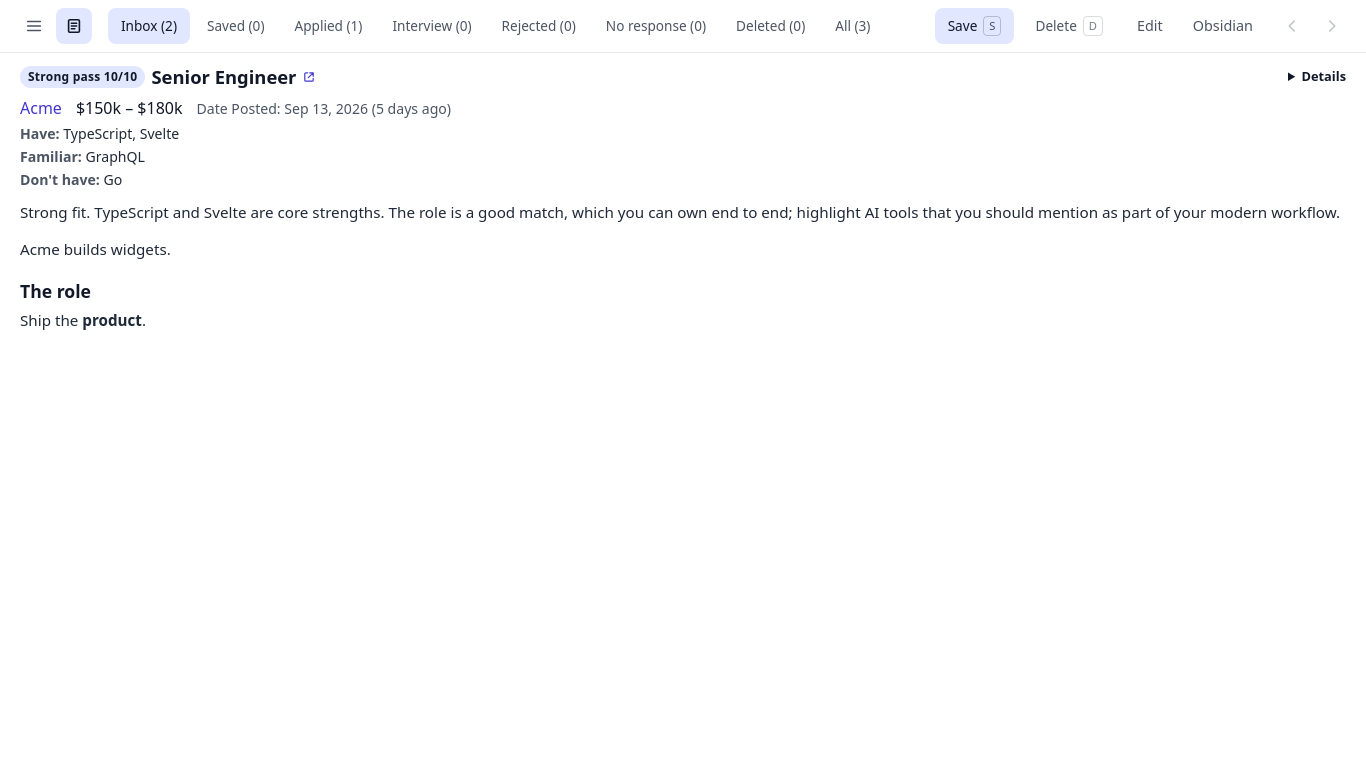
Test case: edits and saves job markdown
This screenshot has width=1366, height=768.
Expected: the heading "Senior Engineer" is shown, [152,65,296,88]
Click the button with aria-label "Edit markdown": (1150, 26) [1124,8,1176,44]
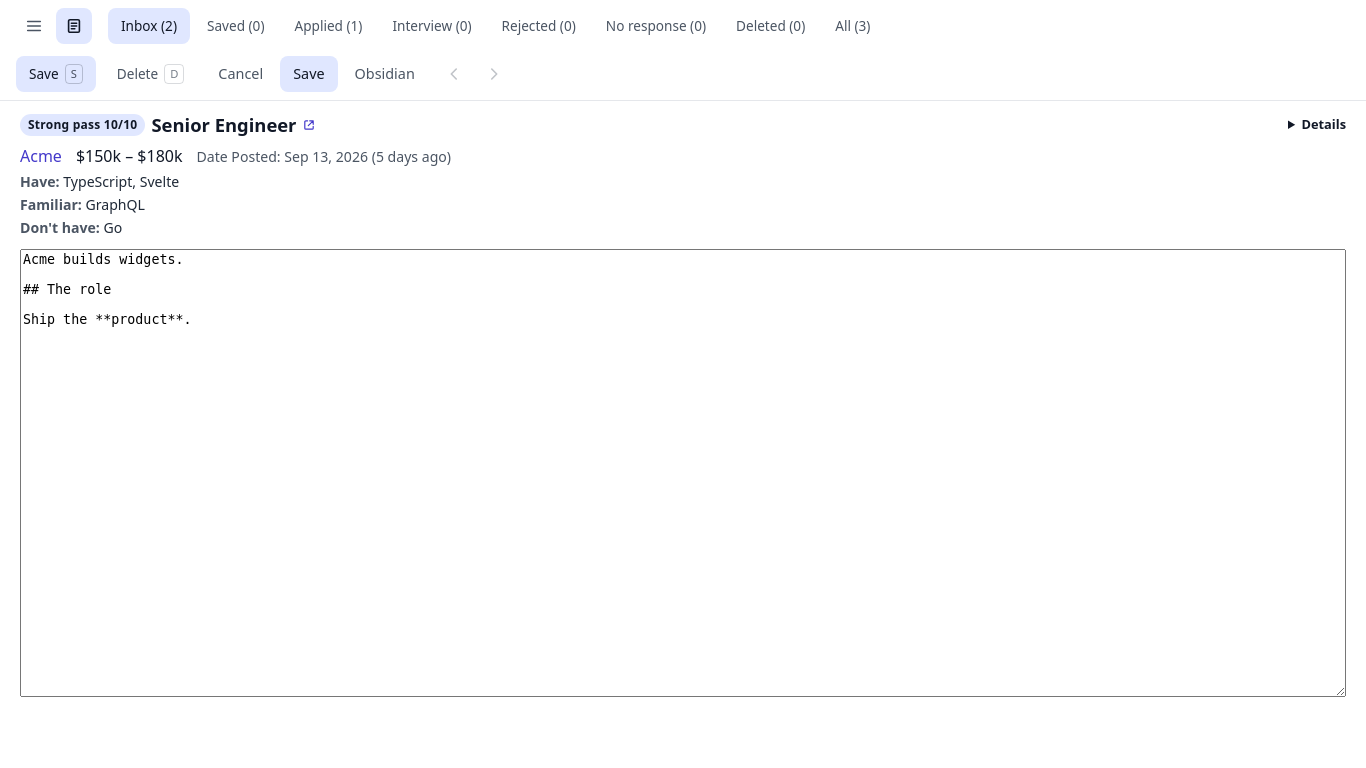
Expected: the text box named "Markdown" holds "Acme builds widgets. ## The role Ship the **product**. "
Replace the text in the text box named "Markdown" with "Updated **role**.": (683, 473) [20,249,1346,697]
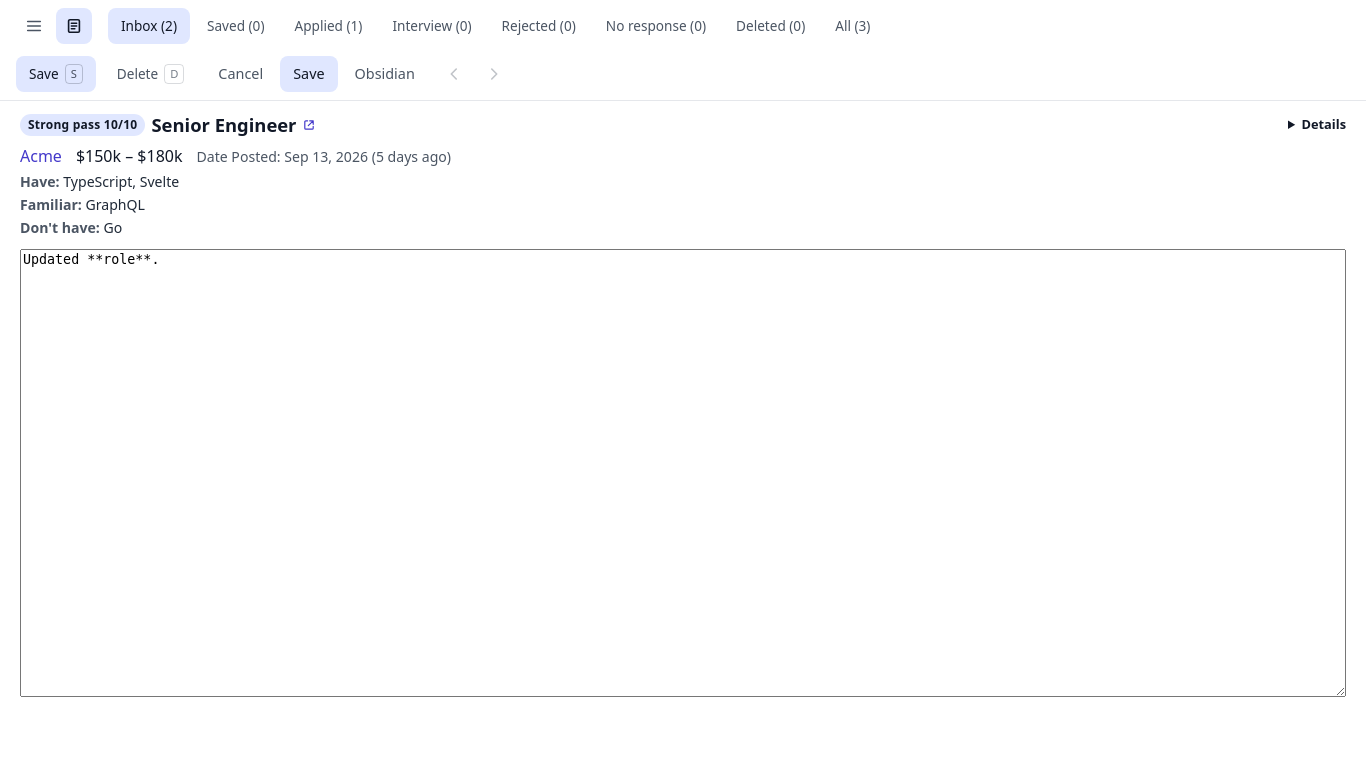
Click the button with aria-label "Save markdown": (309, 74) [280,56,338,92]
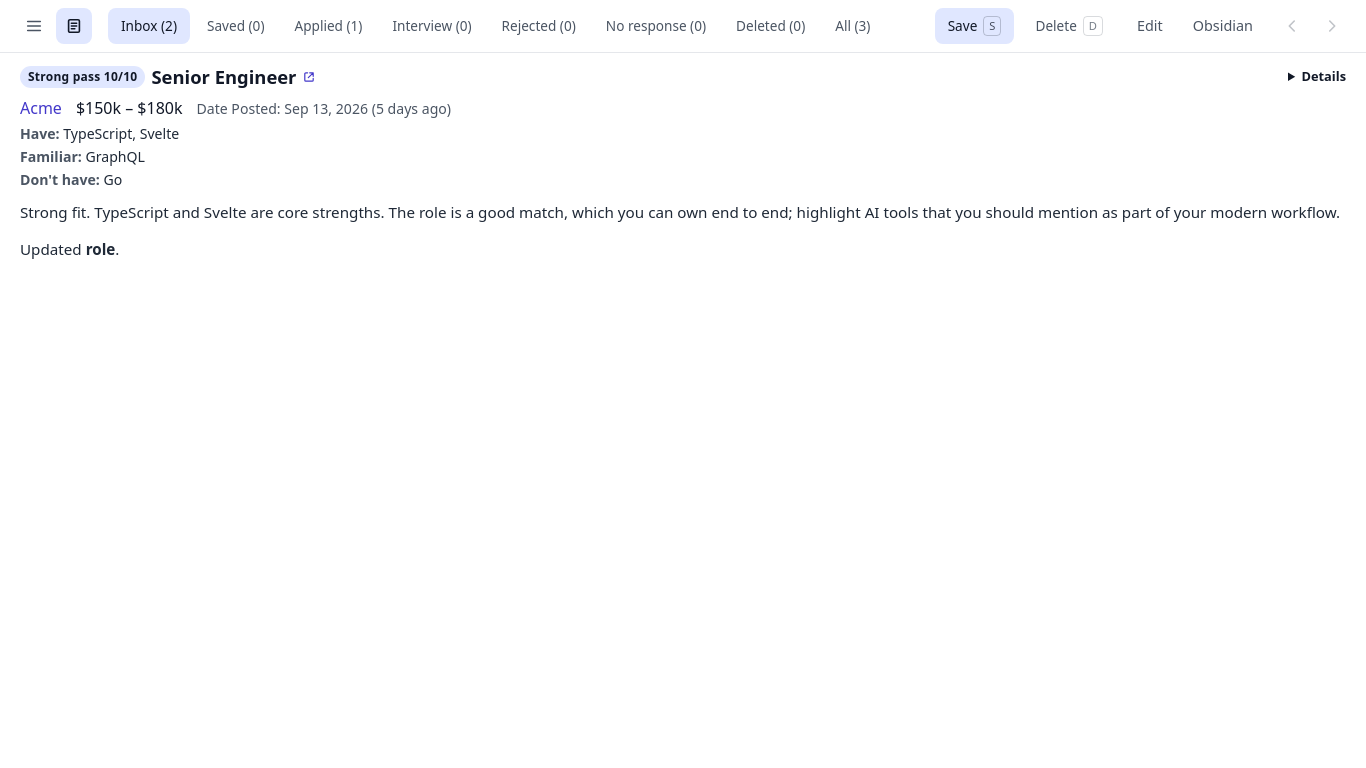
Expected: the text "Updated role." is shown, [20,239,119,259]
Expected: the button "Markdown" is gone
